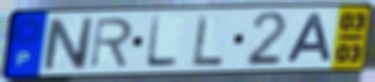2: (246, 10, 290, 68)
A: (284, 11, 334, 65)
L: (143, 14, 181, 69), (192, 13, 226, 69)
N: (41, 16, 95, 73)
R: (88, 16, 136, 71)
